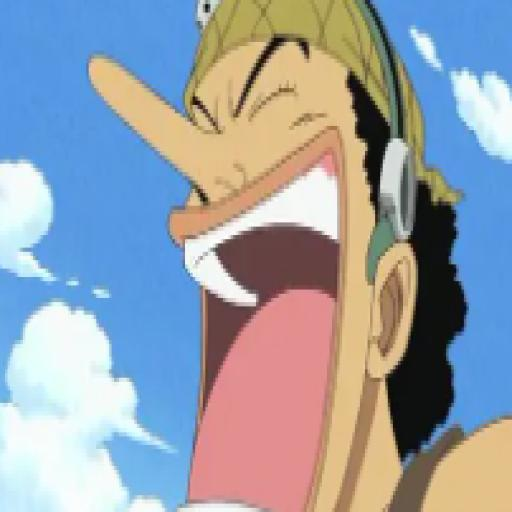Usopp: (86, 0, 512, 512)
